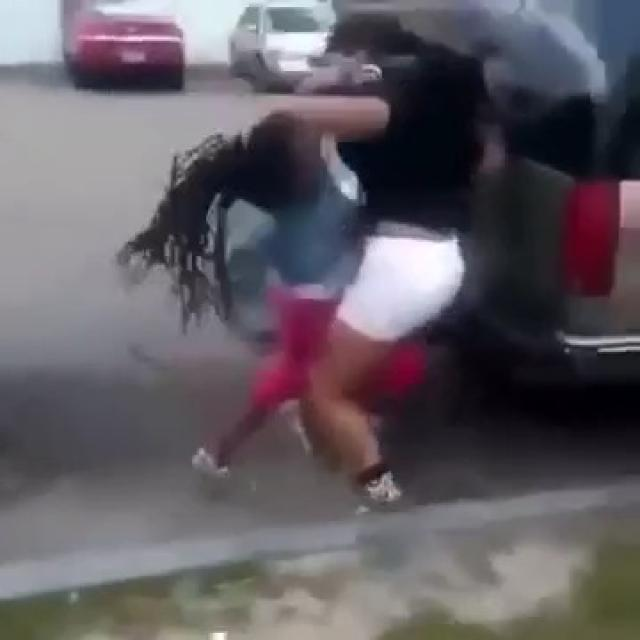fight: (145, 0, 549, 520)
